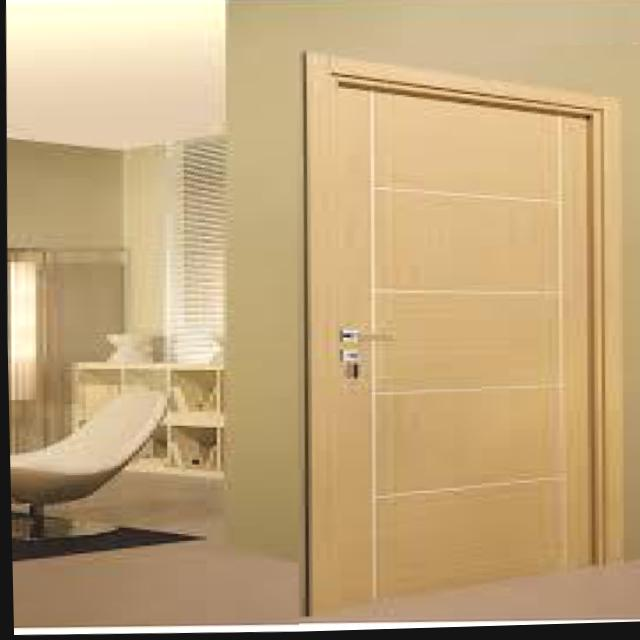close: (284, 42, 639, 633)
